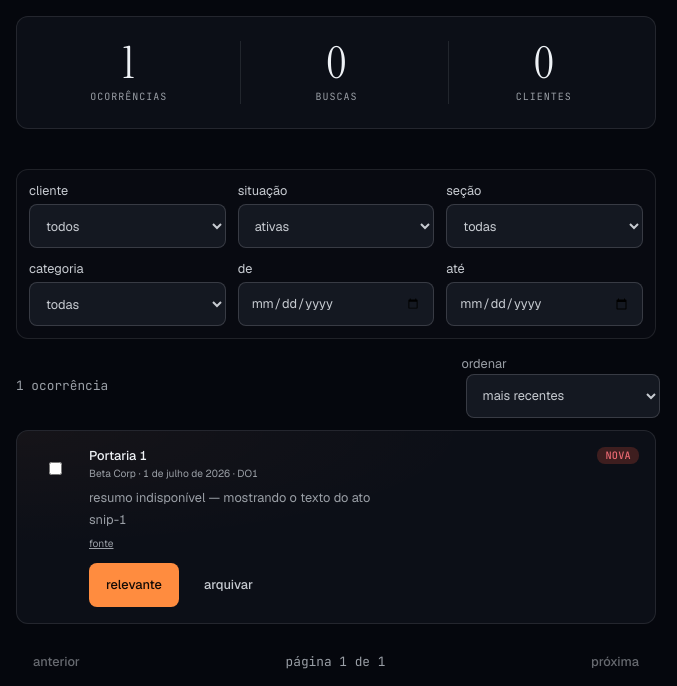
it: marking a match relevant updates its card in place
The image size is (677, 686).
(page scrolled)
Expected: the text "snip-1" is shown, [89, 511, 127, 528]
Click the button "relevante". click: (134,585)
box: [89, 563, 179, 607]
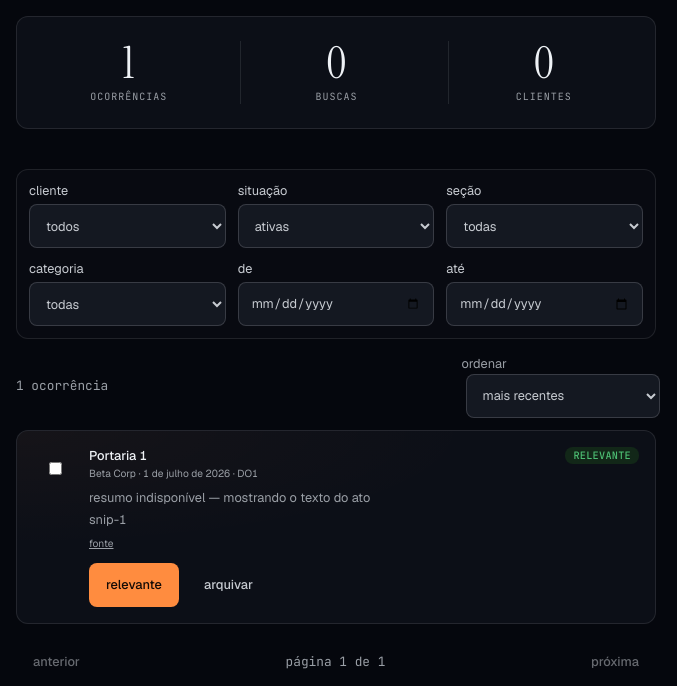
Result: the text "relevante" is shown at [565, 447, 639, 464]
